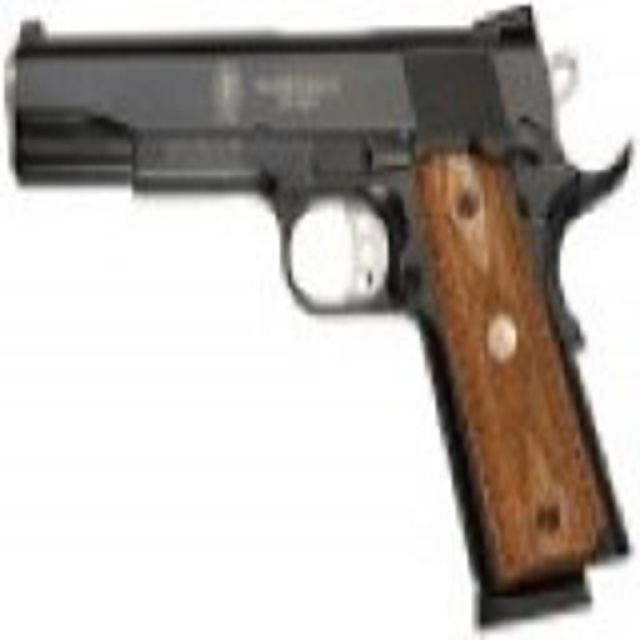pistol: (8, 15, 624, 624)
